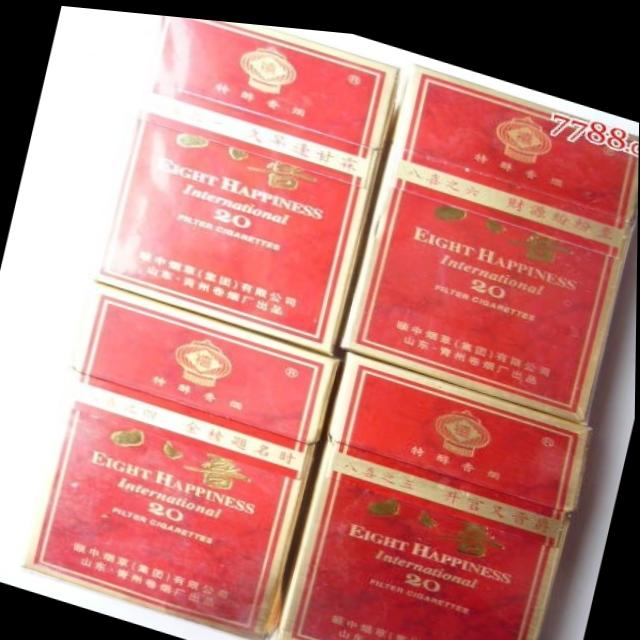box: (26, 277, 334, 638), (340, 56, 639, 412), (95, 12, 398, 349), (272, 343, 589, 640)
